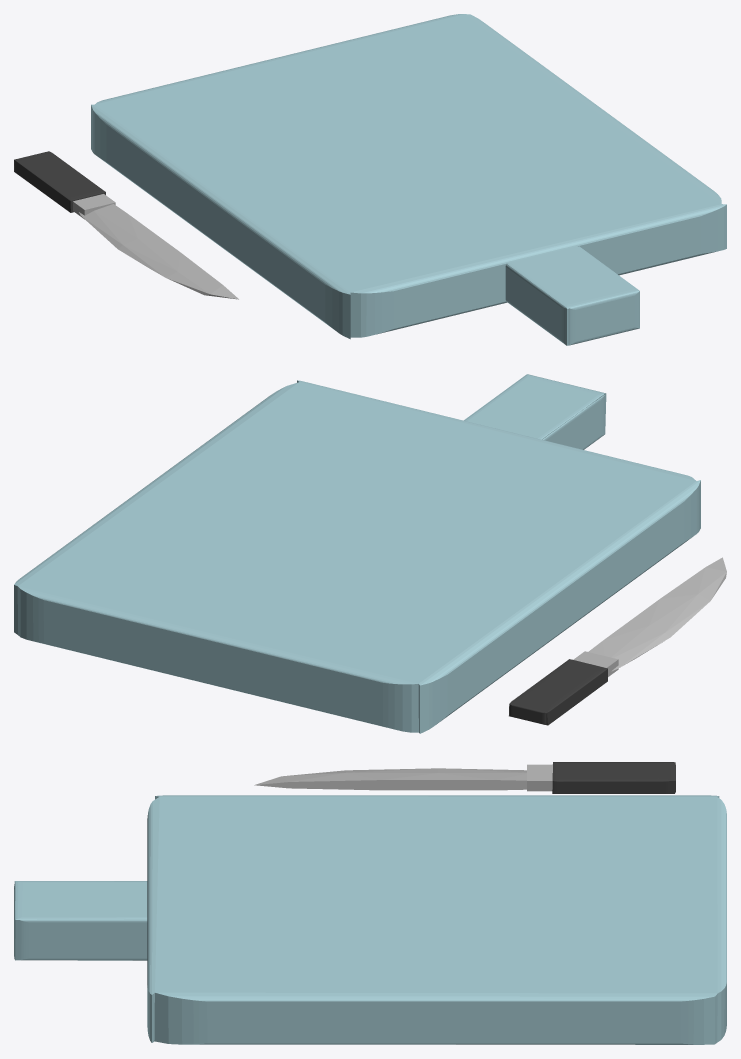
File: tabla_y_cuchillo.fbx
3 views of the same model, one above another, from view 1: azimuth 30°, elevation 25°; view 2: azimuth 150°, elevation 25°; view 3: azimuth 270°, elevation 25° (orthographic). The views are drawn at different scales.
Parts seen in each view (by area): view 1: Cube, Cube.002; view 2: Cube, Cube.002; view 3: Cube, Cube.002.
Part boxes in pixels (x1,y1,x2,y2): Cube: (91, 14, 726, 345); Cube.002: (14, 151, 238, 299); Cube: (14, 374, 700, 733); Cube.002: (509, 557, 726, 725); Cube: (14, 795, 726, 1044); Cube.002: (254, 762, 675, 793).
Bounding box in the file's own units: 250 × 22.4 × 294.
